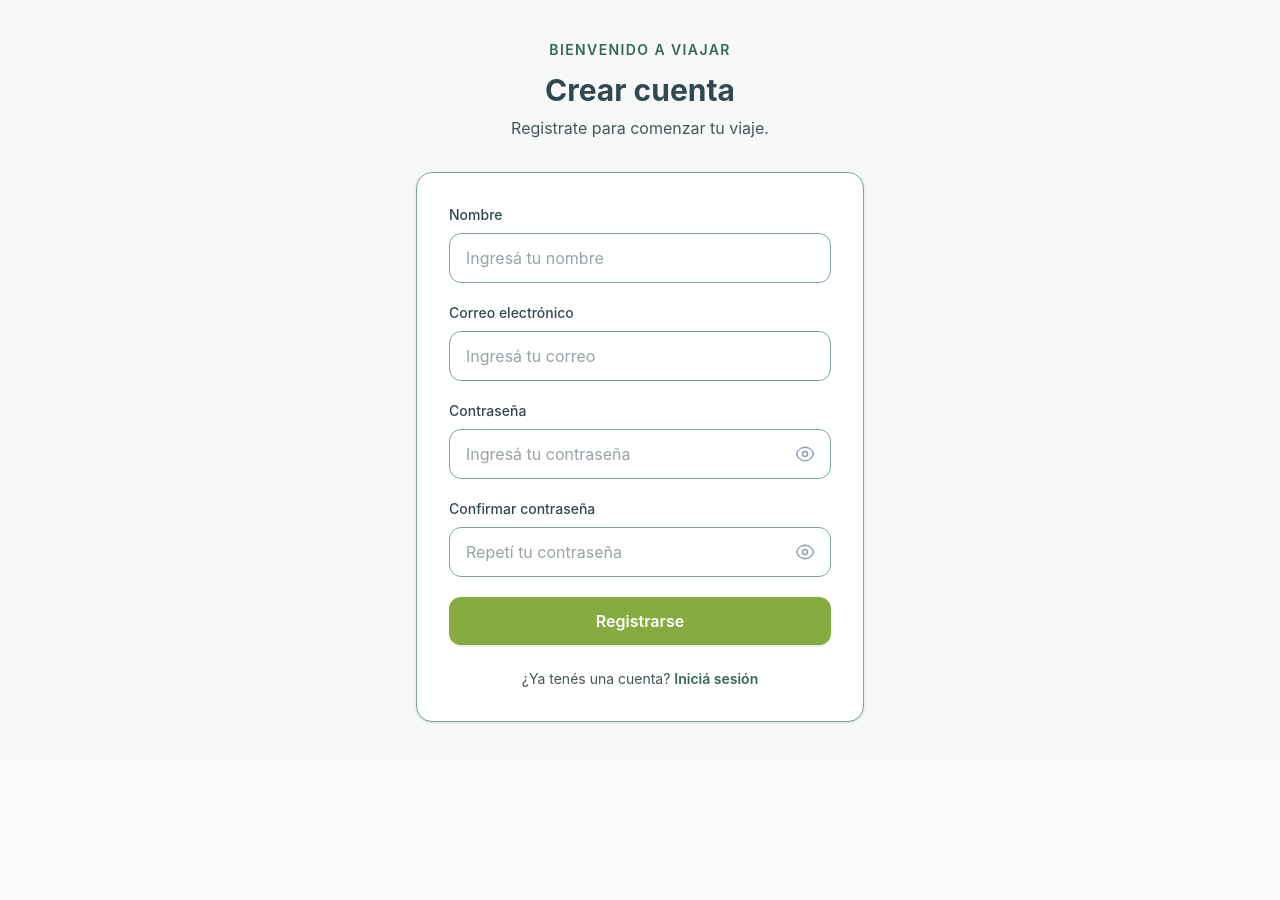
Scenario: Pruebas del registro › muestra error si el correo no es válido
Type "correo-invalido" into the field with placeholder "Ingresá tu correo".
click(640, 356); type("correo-invalido")  # box [449,331,831,381]
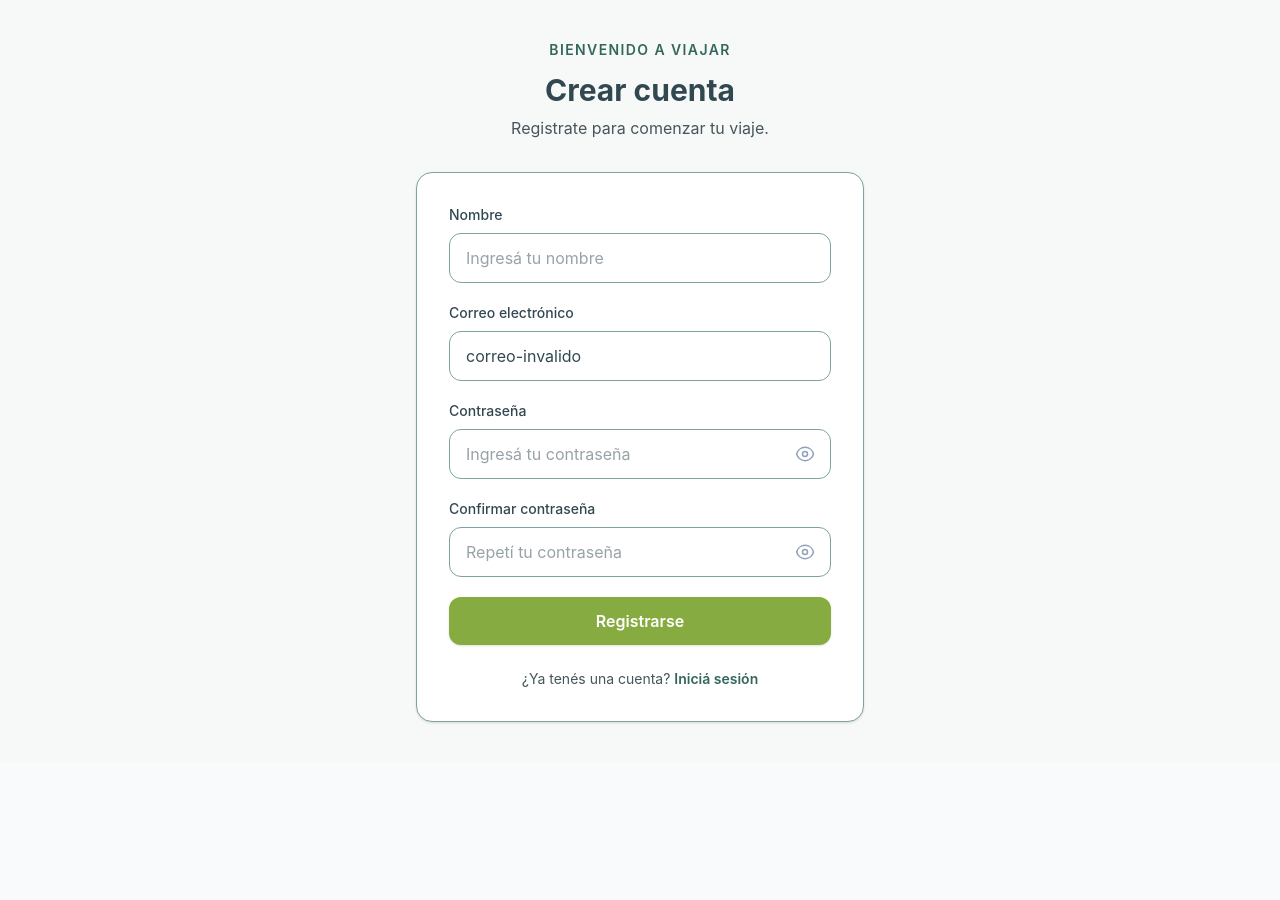
Click the button "Registrarse".
click(640, 621)  # box [449,597,831,645]
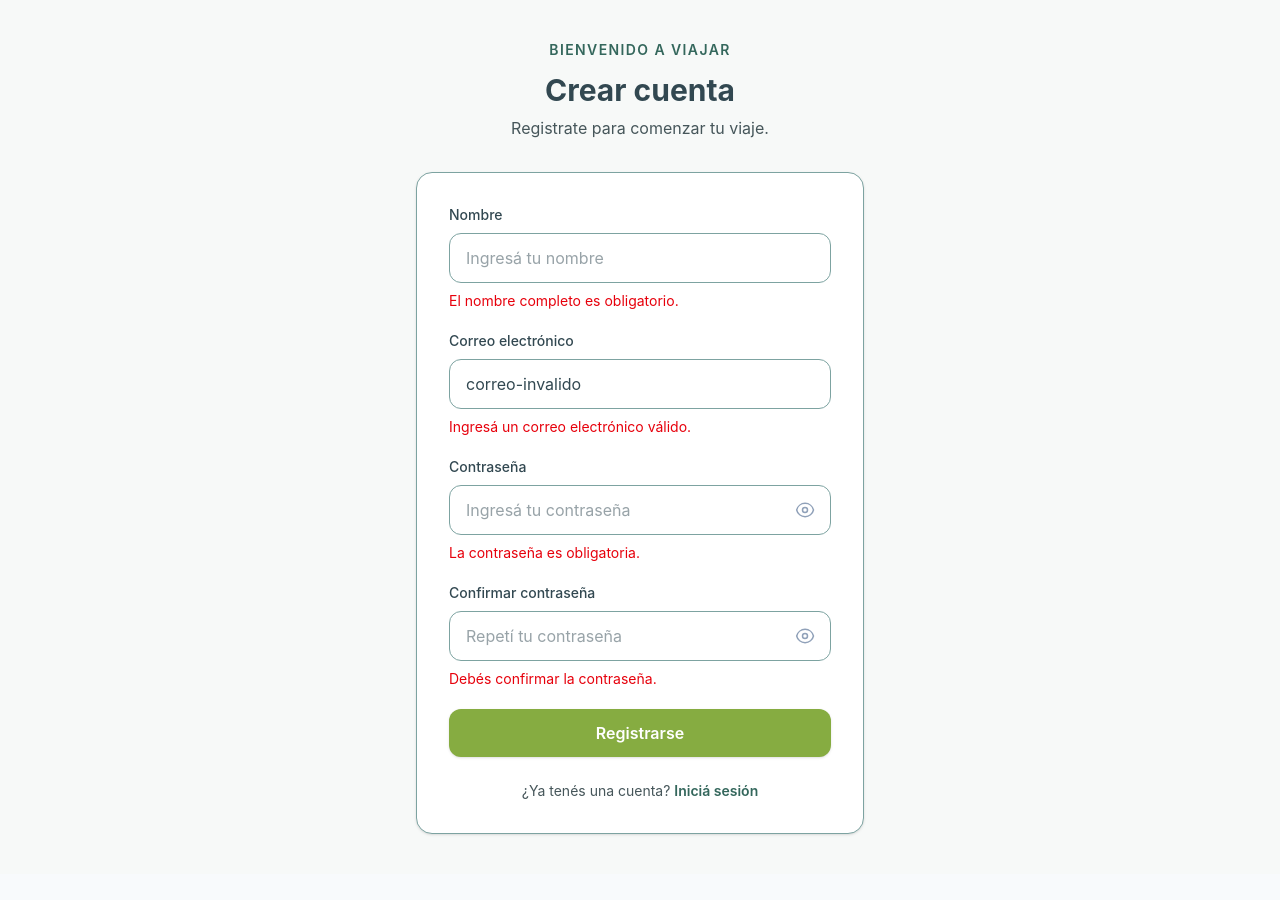
Now the text "Ingresá un correo electrónico válido." is shown, box [449,418,691,435]
